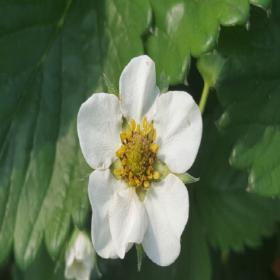Blossom Blight: (112, 115, 161, 191)
